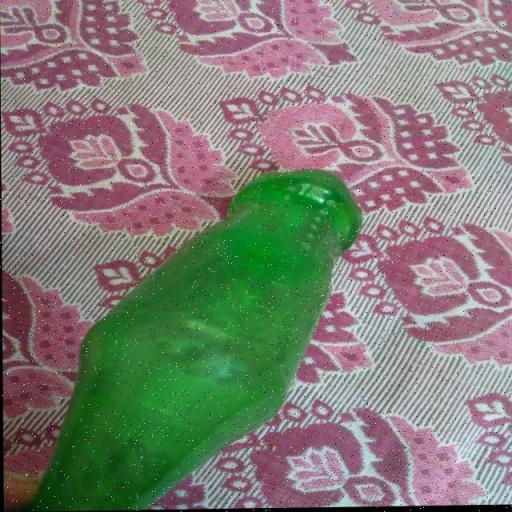plastic: (19, 171, 364, 512)
